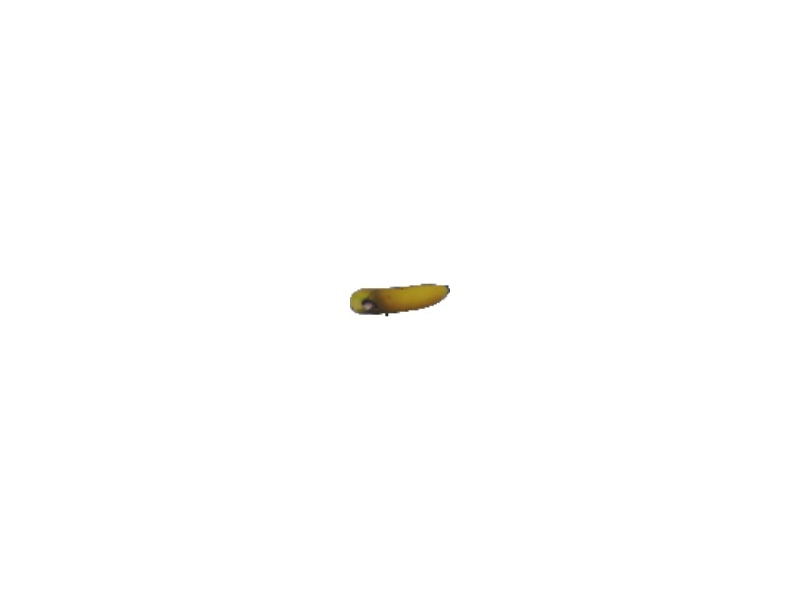banana: (348, 281, 453, 320)
